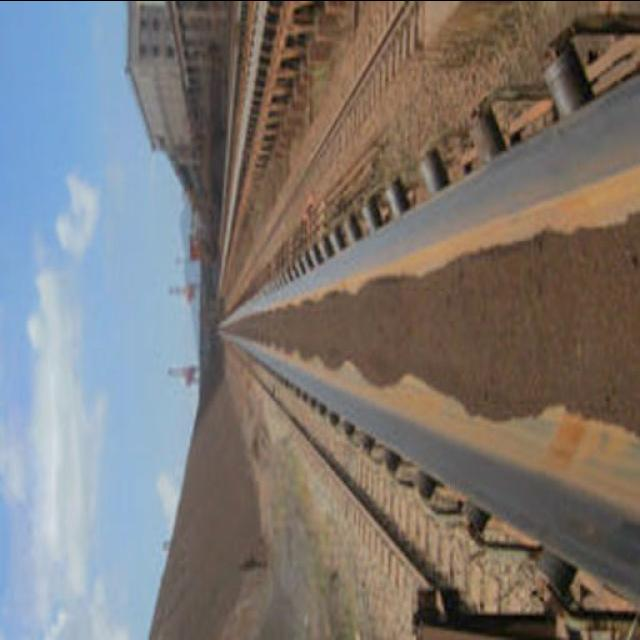conveyor: (218, 100, 633, 594)
